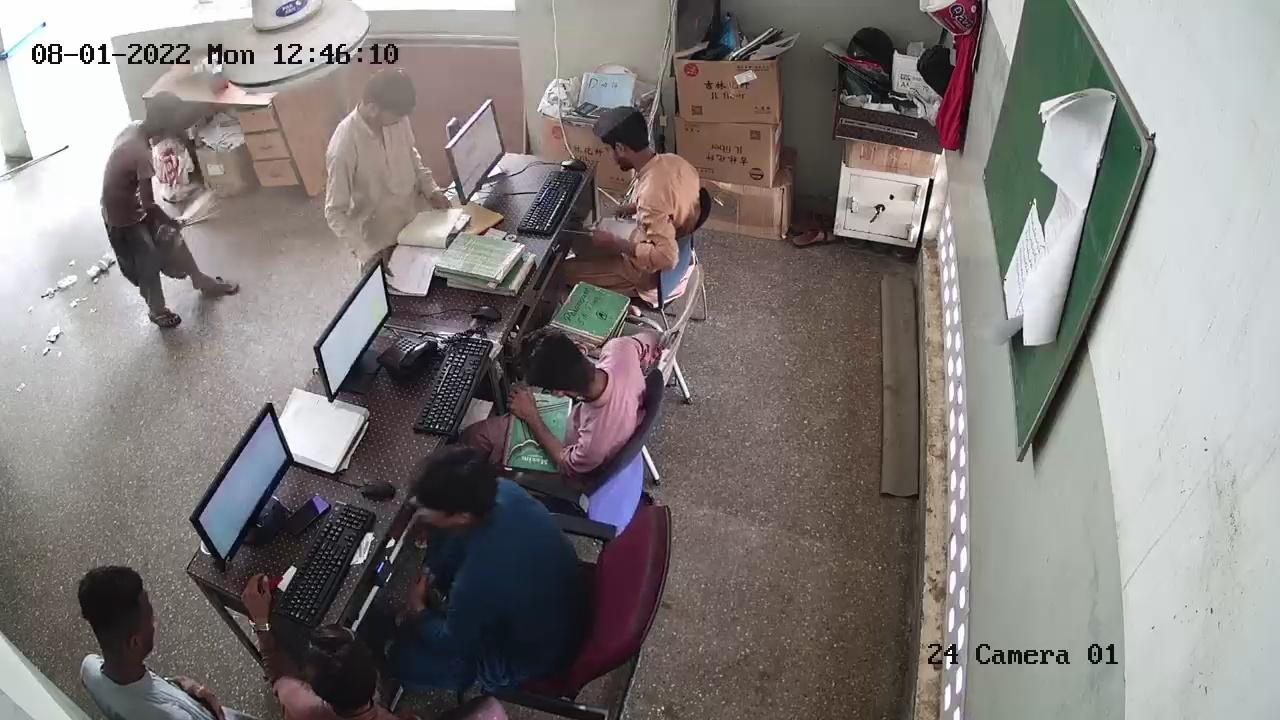person: (402, 445, 554, 653), (62, 577, 204, 720), (241, 592, 395, 720), (589, 97, 690, 268), (517, 330, 640, 463), (109, 118, 179, 333), (329, 70, 419, 233)
